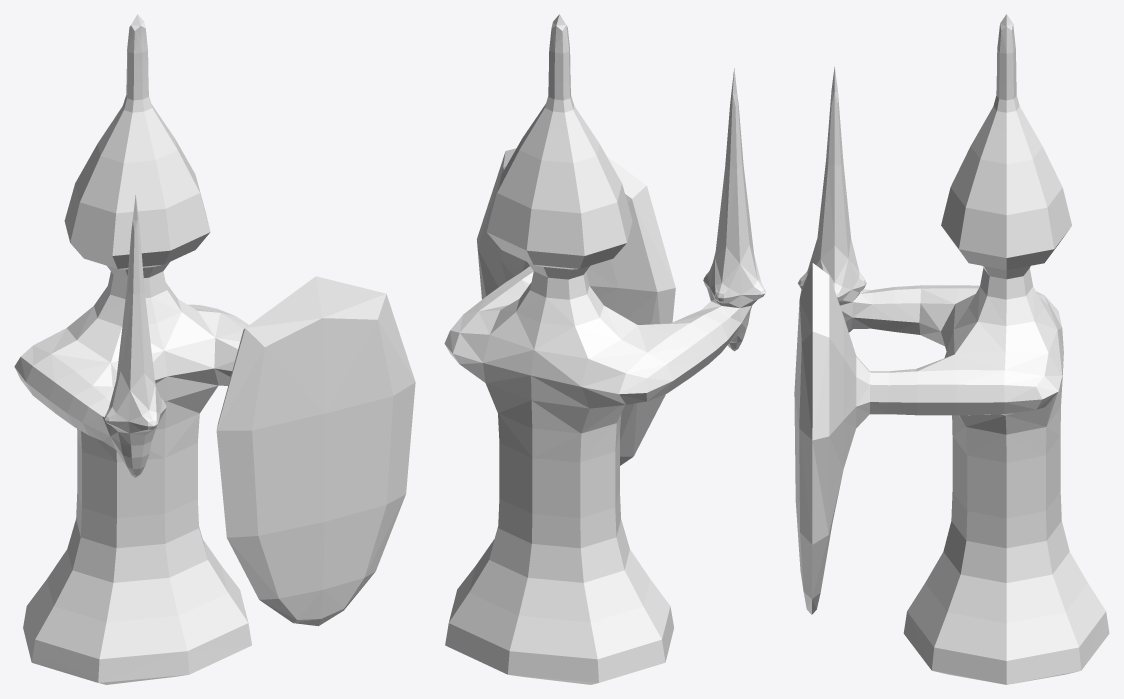
Rendered from wtank.obj.
The picture shows the model from 3 angles, left to right: view 1: azimuth 30°, elevation 25°; view 2: azimuth 150°, elevation 25°; view 3: azimuth 270°, elevation 25°; orthographic projection.
Parts seen in each view (by area): view 1: Cube; view 2: Cube; view 3: Cube.
Boxes of the visible parts, box(x1,y1,x2,y2) form: Cube: box(14, 14, 415, 684); Cube: box(444, 14, 765, 684); Cube: box(794, 14, 1109, 684).
Size of the model in its own units: 5.79 by 11.83 by 5.3.
1 material, 1 textured.
